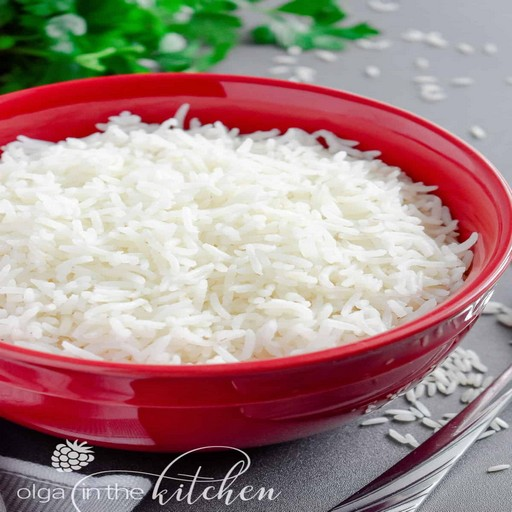rice: (30, 170, 299, 311)
